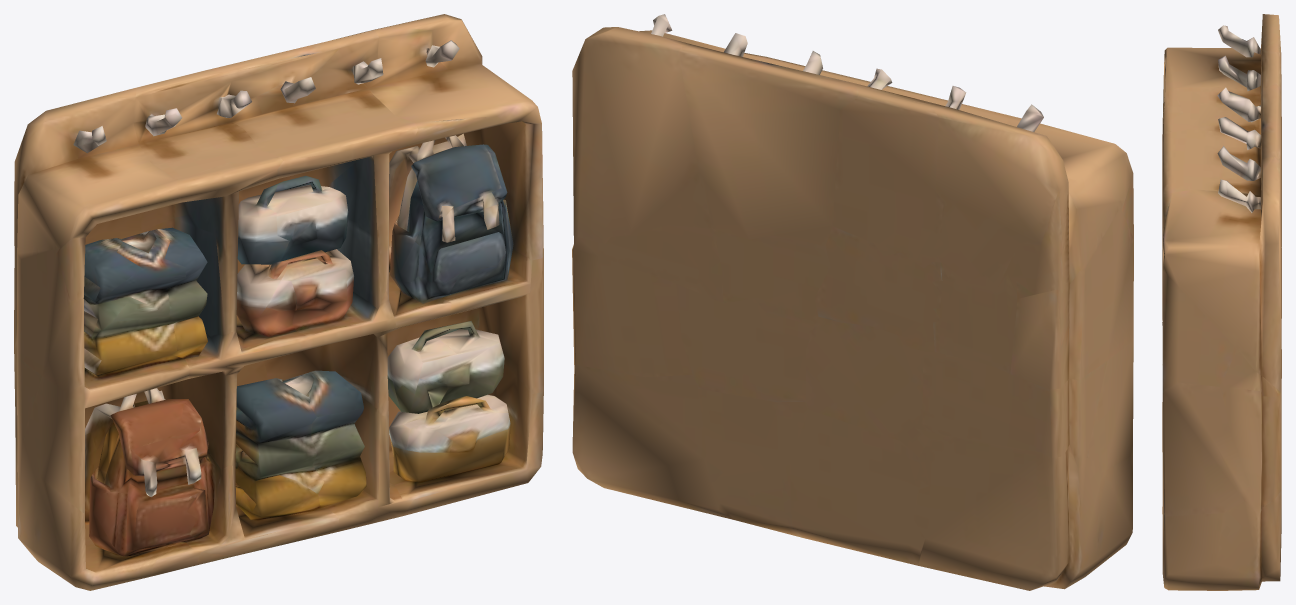
Rendered from lockers.medium.glb.
3 views of the same model, side by side, from view 1: azimuth 30°, elevation 25°; view 2: azimuth 150°, elevation 25°; view 3: azimuth 270°, elevation 25° (orthographic). The views are drawn at different scales.
Visible parts, largest first — view 1: tripo_node_b0fce065-342c-4e43-a012-e1b093b84d35; view 2: tripo_node_b0fce065-342c-4e43-a012-e1b093b84d35; view 3: tripo_node_b0fce065-342c-4e43-a012-e1b093b84d35.
Boxes of the visible parts, x1,y1,x2,y2 form: tripo_node_b0fce065-342c-4e43-a012-e1b093b84d35: (14, 14, 543, 590); tripo_node_b0fce065-342c-4e43-a012-e1b093b84d35: (572, 14, 1133, 590); tripo_node_b0fce065-342c-4e43-a012-e1b093b84d35: (1162, 14, 1281, 590).
Bounding box in the file's own units: 1.72 × 1.5 × 0.4129.
Materials: 1 (1 with a texture image).
